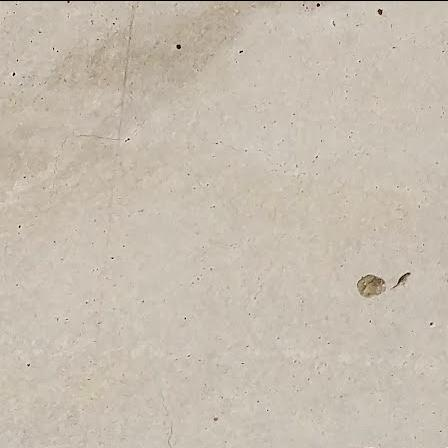crack: (0, 72, 163, 265), (148, 372, 180, 448)
